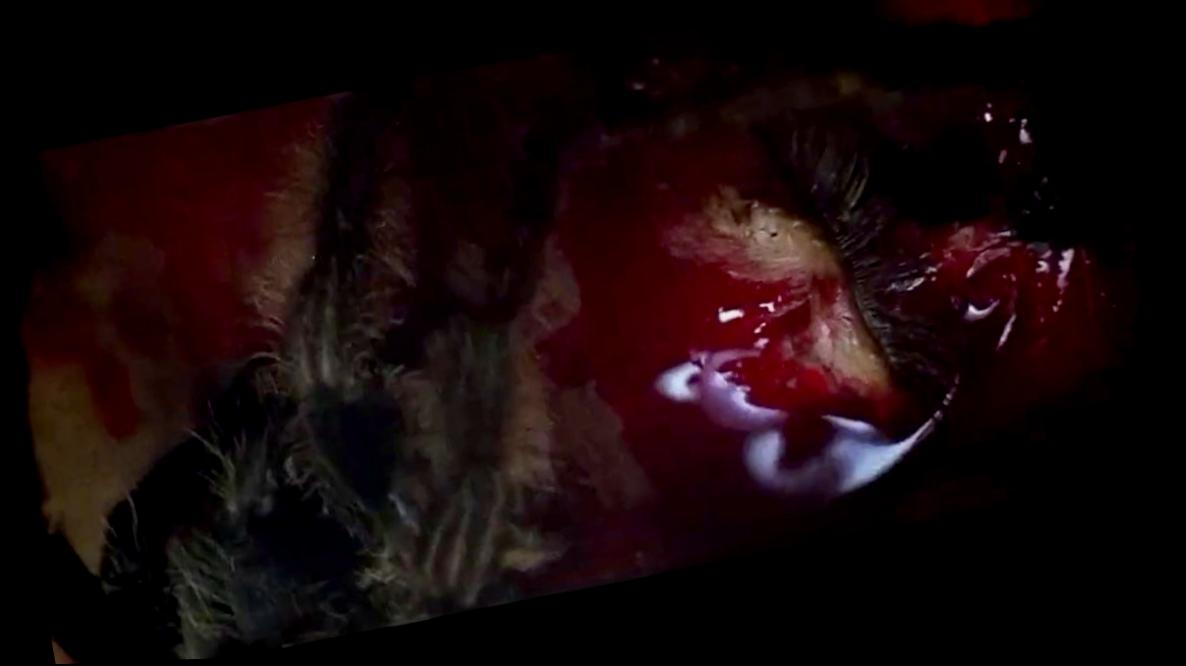Fire: (495, 93, 1142, 594), (21, 108, 320, 388)
